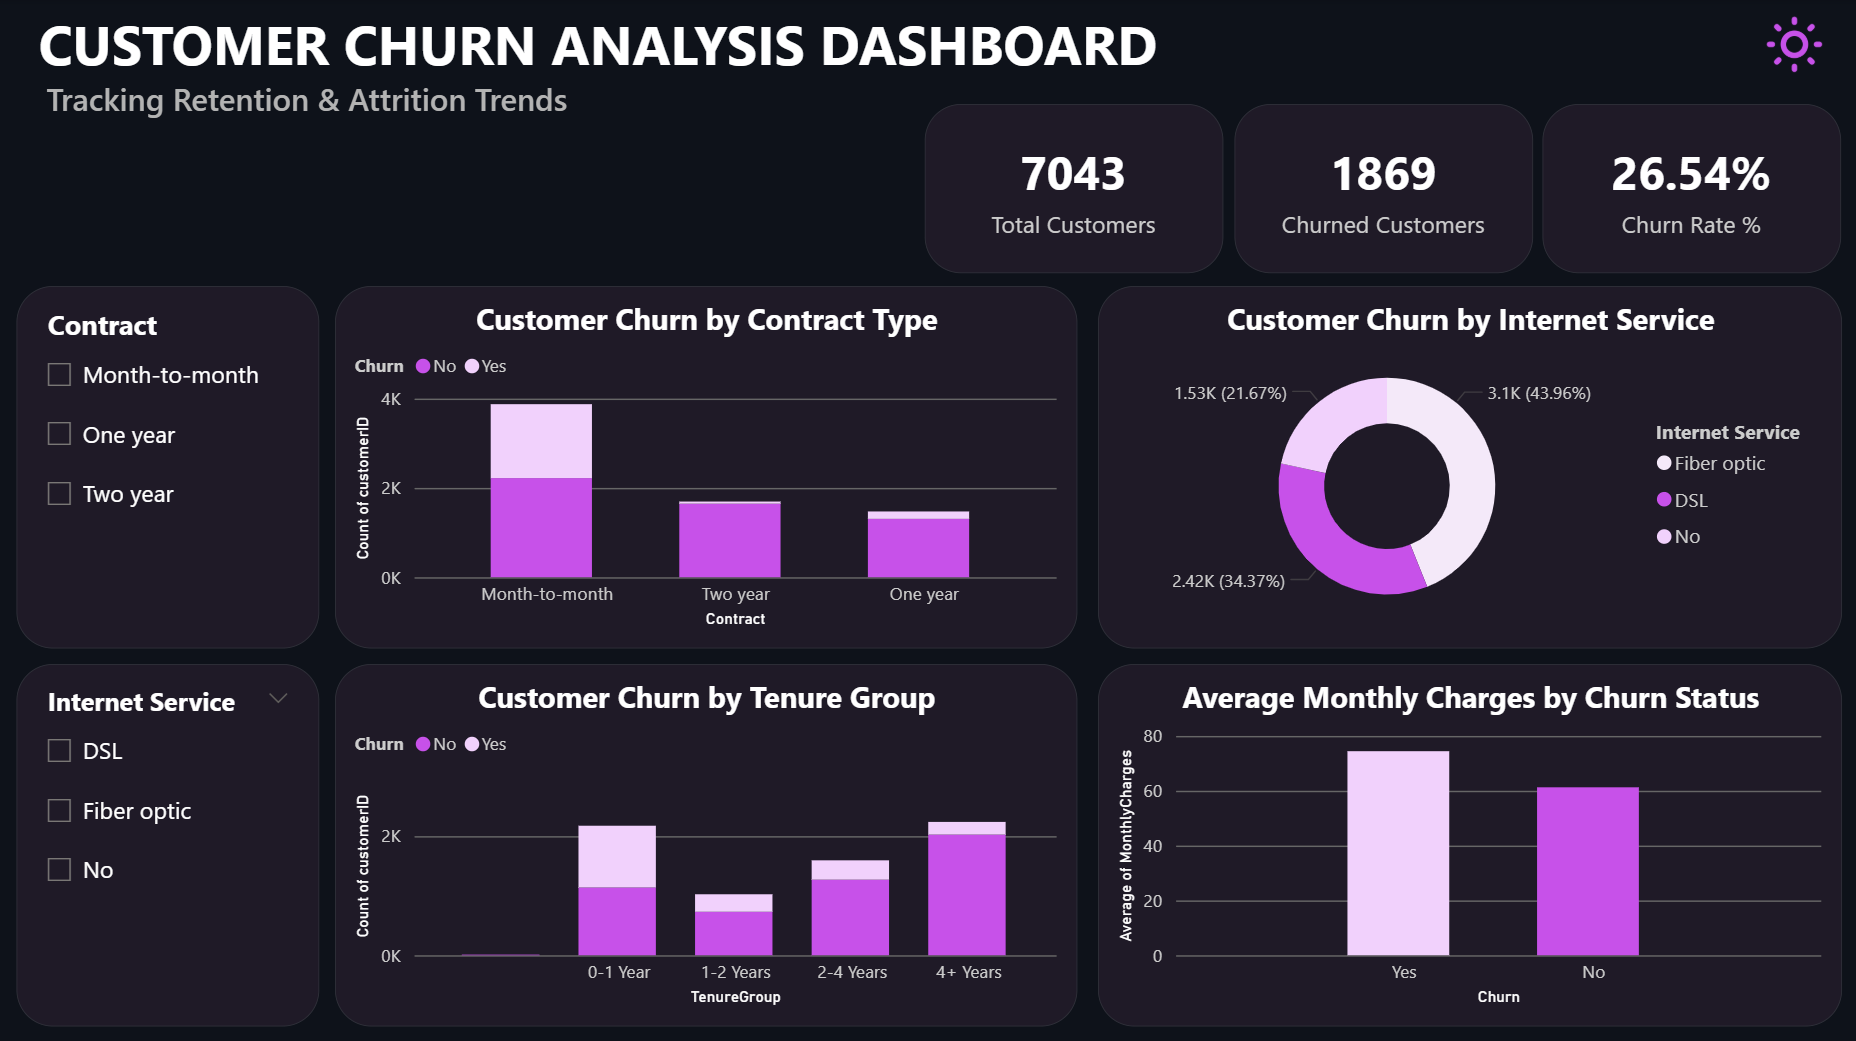

The page's visual inventory and layout, read from the dashboard file:
{"tool":"powerbi","page":{"name":"Dark","canvas":[1280,720],"ordinal":1},"visuals":[{"type":"card","fields":{"Values":["telco_clean.Total Customers"]},"box":[637.5,72.7,205.6,116.5],"z":0},{"type":"card","fields":{"Values":["telco_clean.Churned Customers"]},"box":[850.6,72.7,205.6,116.5],"z":1000},{"type":"card","fields":{"Values":["telco_clean.Churn Rate %"]},"box":[1063.8,72.7,205.6,116.5],"z":2000},{"type":"columnChart","title":"Customer Churn by Contract Type","fields":{"Category":["telco_clean.Contract"],"Series":["telco_clean.Churn"],"Y":["CountNonNull(telco_clean.customerID)"]},"box":[231.7,197.4,511.3,249.5],"z":3000},{"type":"columnChart","title":"Customer Churn by Tenure Group","fields":{"Category":["telco_clean.TenureGroup"],"Y":["CountNonNull(telco_clean.customerID)"],"Series":["telco_clean.Churn"]},"box":[231.7,457.9,511.3,249.5],"z":4000},{"type":"clusteredColumnChart","title":"Average Monthly Charges by Churn Status","fields":{"Category":["telco_clean.Churn"],"Y":["Avg(telco_clean.MonthlyCharges)"]},"box":[756.7,457.9,512.7,249.5],"z":5000},{"type":"textbox","box":[12.3,0,799.2,63.1],"z":6000},{"type":"donutChart","title":"Customer Churn by Internet Service","fields":{"Category":["telco_clean.InternetService"],"Y":["CountNonNull(telco_clean.customerID)"]},"box":[756.7,197.4,512.7,249.5],"z":7000},{"type":"slicer","fields":{"Values":["telco_clean.Contract"]},"box":[12.3,197.4,208.4,249.5],"z":8000},{"type":"slicer","fields":{"Values":["telco_clean.InternetService"]},"box":[12.3,457.9,208.4,249.5],"z":9000},{"type":"textbox","box":[27.4,49.4,385.2,48],"z":10000},{"type":"image","box":[1214,7.2,45.8,48.2],"z":11001}]}

Visuals, with their boxes in screenshot pixels (x1, y1, x2, y2), scaled from the page's 1280x720 canvas onto the 1856x1041 screenshot:
card - telco_clean.Total Customers: {"x1": 924, "y1": 105, "x2": 1222, "y2": 274}
card - telco_clean.Churned Customers: {"x1": 1233, "y1": 105, "x2": 1531, "y2": 274}
card - telco_clean.Churn Rate %: {"x1": 1543, "y1": 105, "x2": 1841, "y2": 274}
"Customer Churn by Contract Type" columnChart: {"x1": 336, "y1": 285, "x2": 1077, "y2": 646}
"Customer Churn by Tenure Group" columnChart: {"x1": 336, "y1": 662, "x2": 1077, "y2": 1023}
"Average Monthly Charges by Churn Status" clusteredColumnChart: {"x1": 1097, "y1": 662, "x2": 1841, "y2": 1023}
textbox: {"x1": 18, "y1": 0, "x2": 1177, "y2": 91}
"Customer Churn by Internet Service" donutChart: {"x1": 1097, "y1": 285, "x2": 1841, "y2": 646}
slicer - telco_clean.Contract: {"x1": 18, "y1": 285, "x2": 320, "y2": 646}
slicer - telco_clean.InternetService: {"x1": 18, "y1": 662, "x2": 320, "y2": 1023}
textbox: {"x1": 40, "y1": 71, "x2": 598, "y2": 141}
image: {"x1": 1760, "y1": 10, "x2": 1827, "y2": 80}
